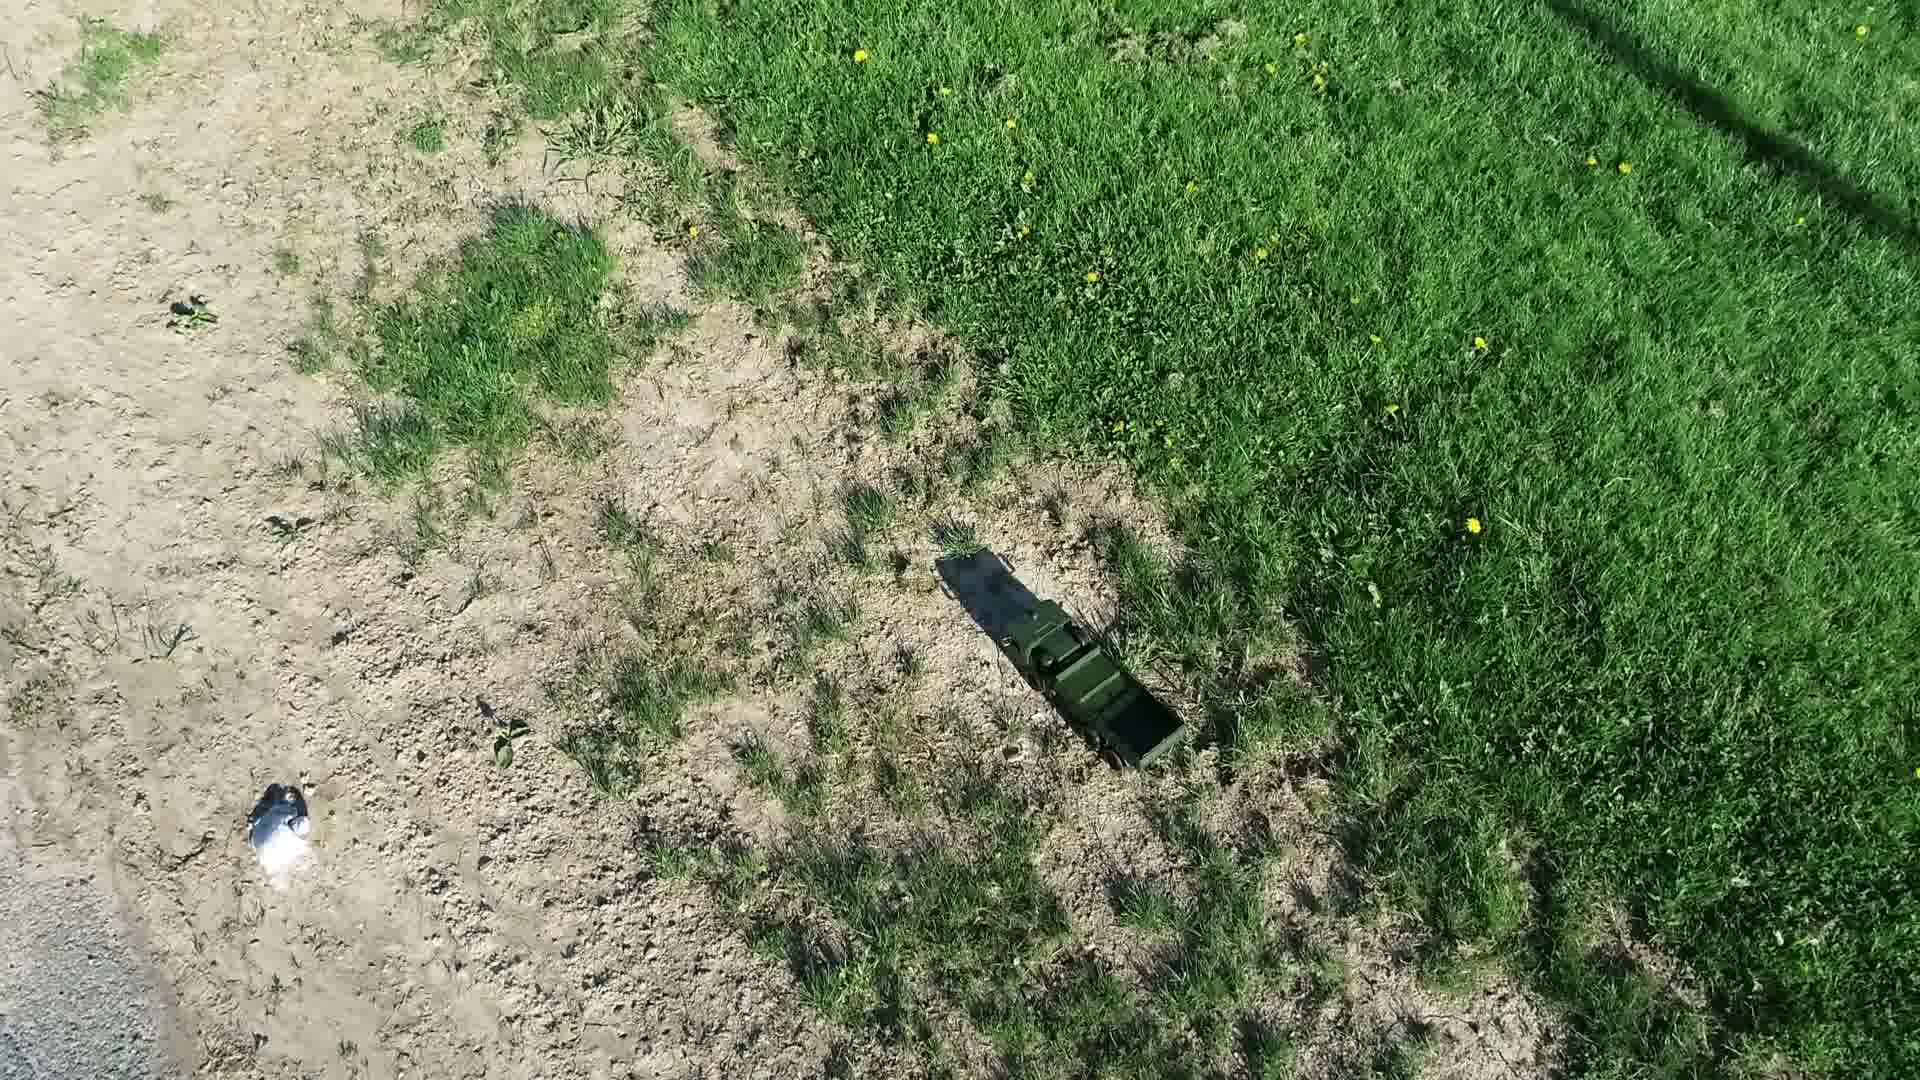transporter9: (1001, 596, 1197, 794)
